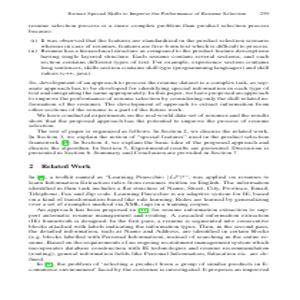text: (16, 10, 271, 275)
